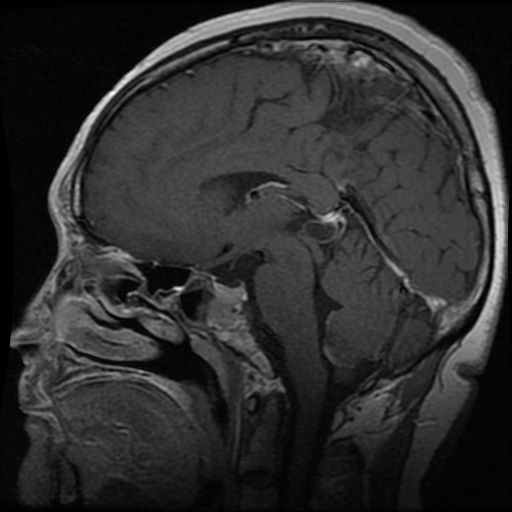pituitary: (208, 283, 245, 325)
